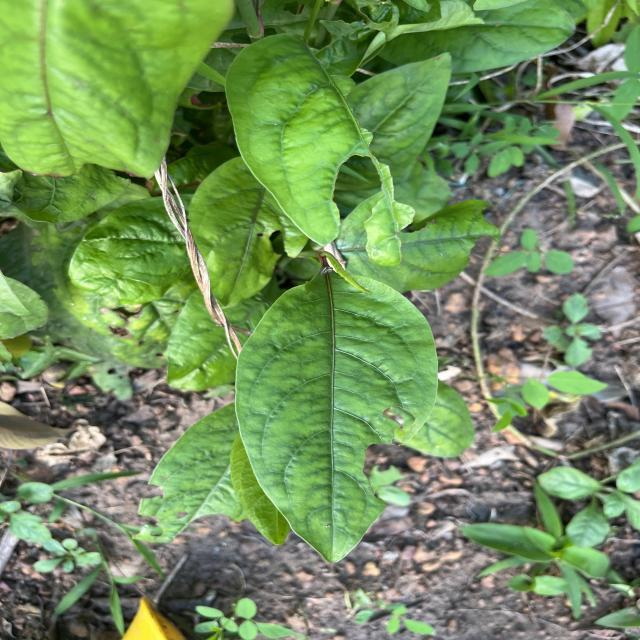Plumbago indica: (232, 270, 446, 571)
